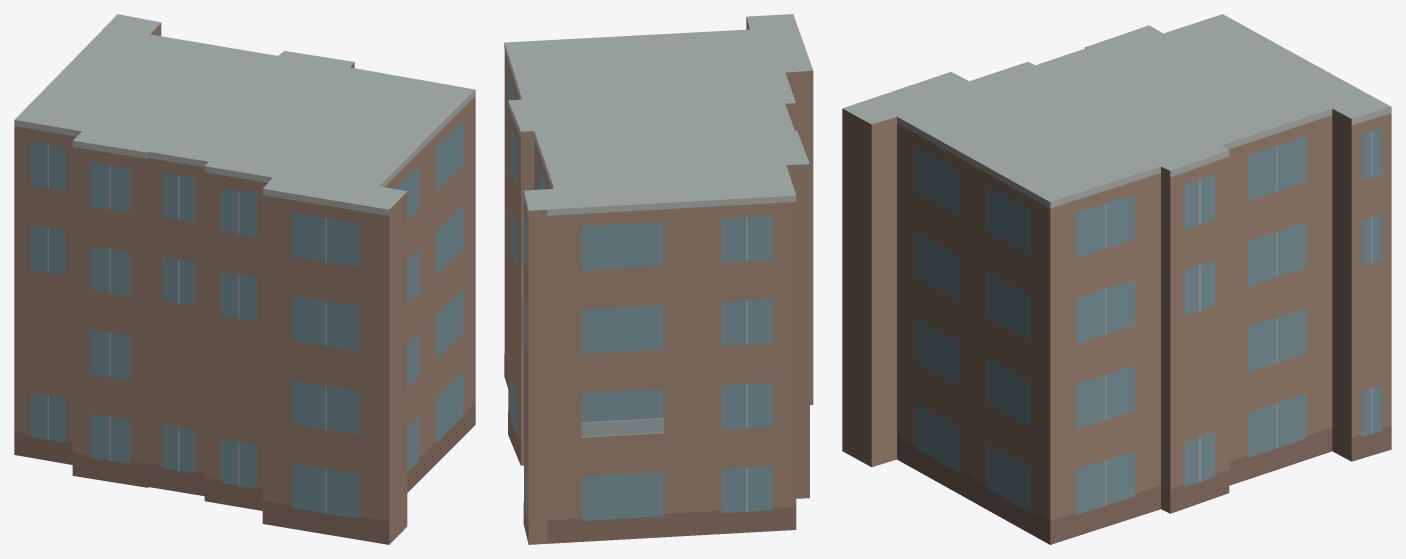
Rendered from survey-upis-32986327.glb.
3 views of the same model, side by side, from view 1: azimuth 30°, elevation 25°; view 2: azimuth 150°, elevation 25°; view 3: azimuth 270°, elevation 25° (orthographic). The views are drawn at different scales.
Parts seen in each view (by area): view 1: survey-upis-32986327.tmp; view 2: survey-upis-32986327.tmp; view 3: survey-upis-32986327.tmp.
Boxes of the visible parts, left/top/right/bottom form: survey-upis-32986327.tmp: left=14, top=14, right=475, bottom=544; survey-upis-32986327.tmp: left=504, top=14, right=813, bottom=544; survey-upis-32986327.tmp: left=842, top=14, right=1391, bottom=544.
Bounding box in the file's own units: 15.29 × 12.98 × 18.86.
